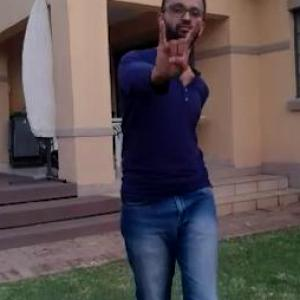takeoff-hand: (151, 11, 209, 89)
